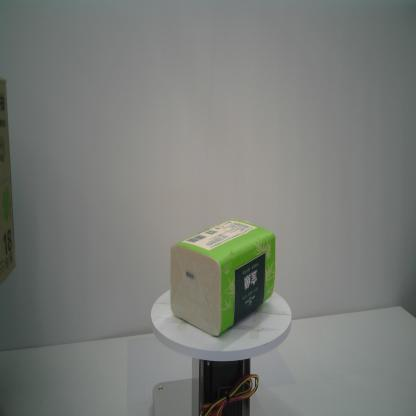Tissue: (170, 218, 277, 338)
